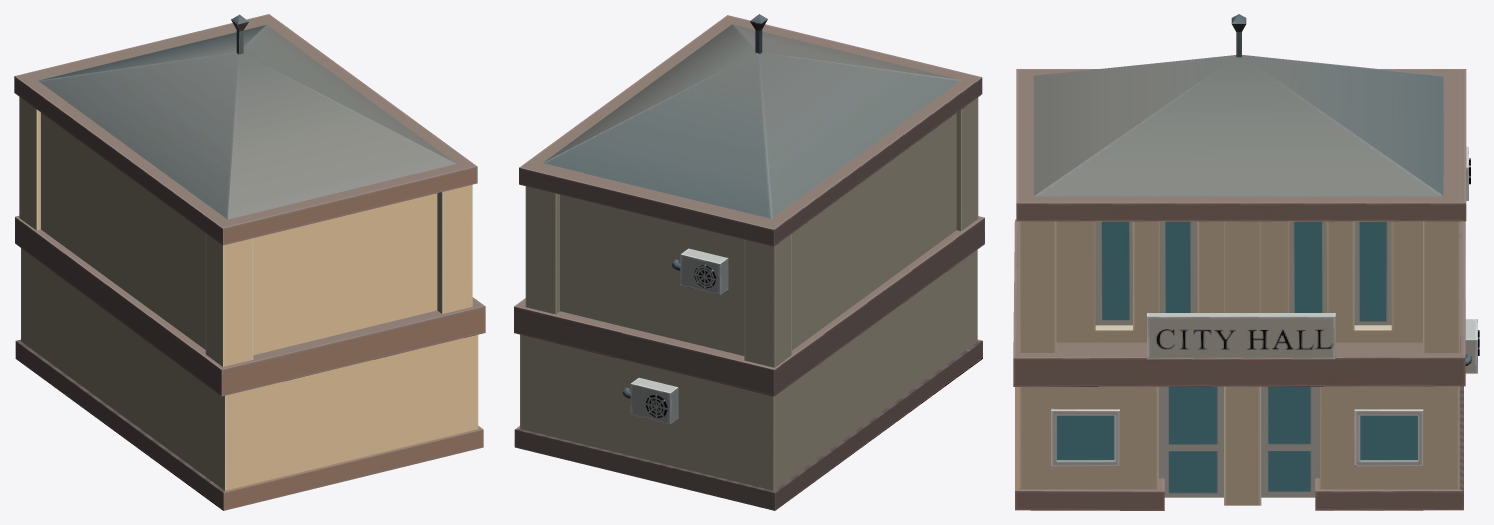
The model's file is CityHall.glb.
3 views of the same model, side by side, from view 1: azimuth 30°, elevation 25°; view 2: azimuth 150°, elevation 25°; view 3: azimuth 270°, elevation 25° (orthographic). The views are drawn at different scales.
Visible parts, largest first — view 1: Cylinder001; view 2: Cylinder001; view 3: Cylinder001.
Part boxes in pixels (x1,y1,x2,y2): Cylinder001: (14, 14, 485, 510); Cylinder001: (514, 14, 984, 510); Cylinder001: (1013, 14, 1479, 510).
Size of the model in its own units: 2.68 by 3.8 by 3.8.
Materials: 1 (1 with a texture image).
